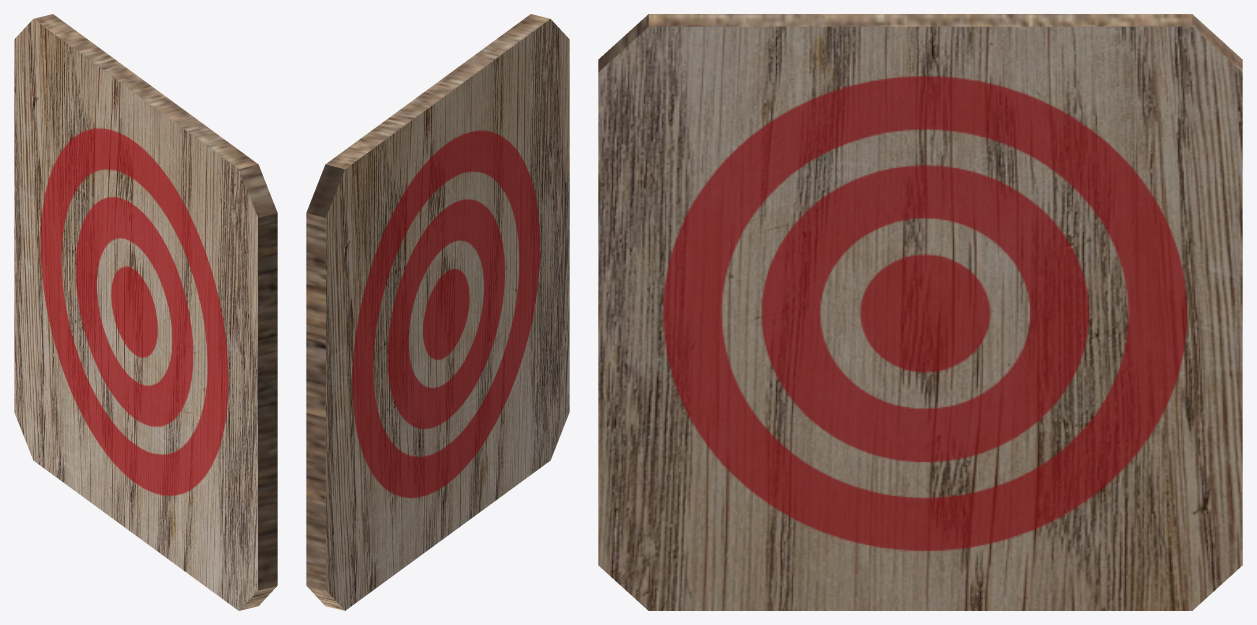
File: diana_hacha.obj
3 views of the same model, side by side, from view 1: azimuth 30°, elevation 25°; view 2: azimuth 150°, elevation 25°; view 3: azimuth 270°, elevation 25° (orthographic). The views are drawn at different scales.
Parts seen in each view (by area): view 1: Diana; view 2: Diana; view 3: Diana.
Part boxes in pixels (left/top/right/bottom): Diana: left=14, top=14, right=277, bottom=610; Diana: left=306, top=14, right=569, bottom=610; Diana: left=598, top=14, right=1242, bottom=610.
Bounding box in the file's own units: 0.6386 × 13.65 × 13.65.
